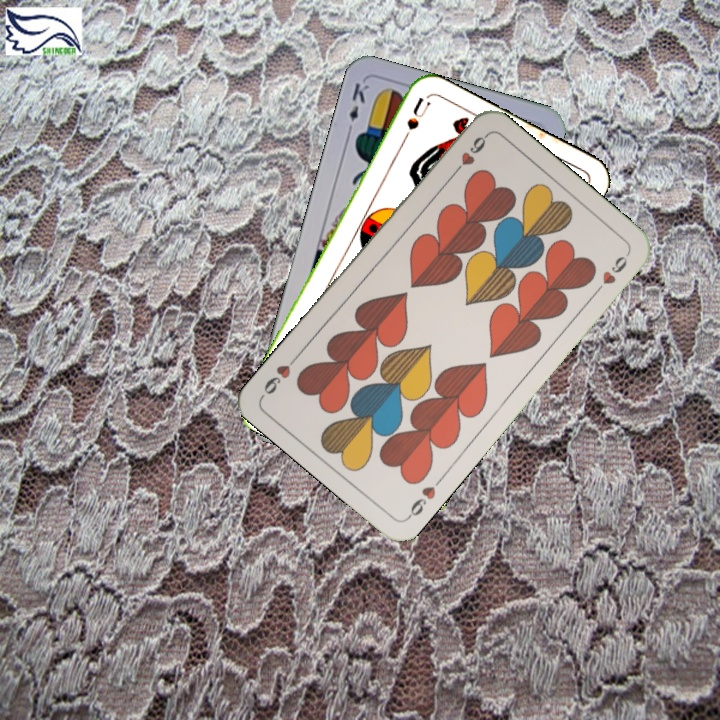EK: (342, 79, 372, 137)
H9: (447, 131, 490, 180), (403, 473, 446, 522)
SU: (395, 94, 432, 151)
